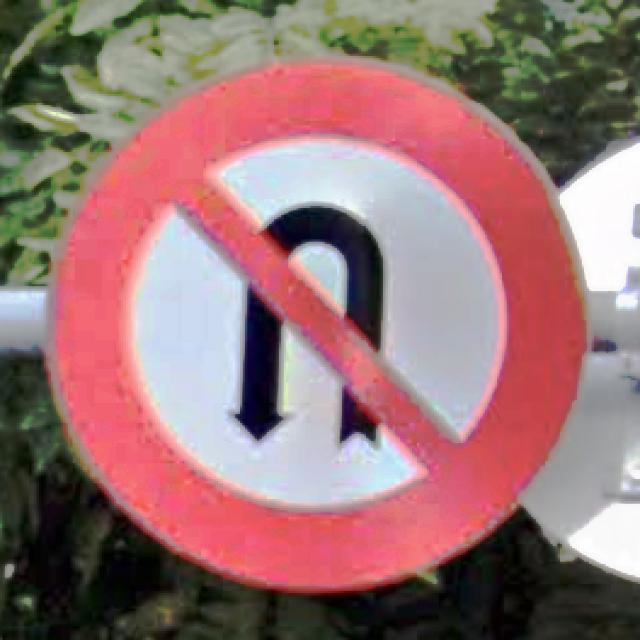nouturn: (44, 54, 592, 600)
